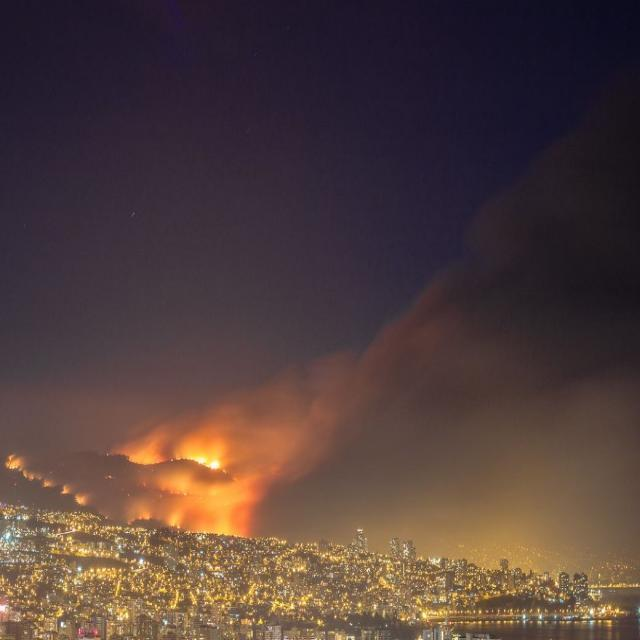Fire: (170, 487, 252, 536), (108, 421, 168, 464), (177, 436, 224, 470), (5, 452, 34, 480), (128, 498, 152, 522), (74, 491, 86, 508), (60, 483, 71, 497), (42, 476, 52, 490)
